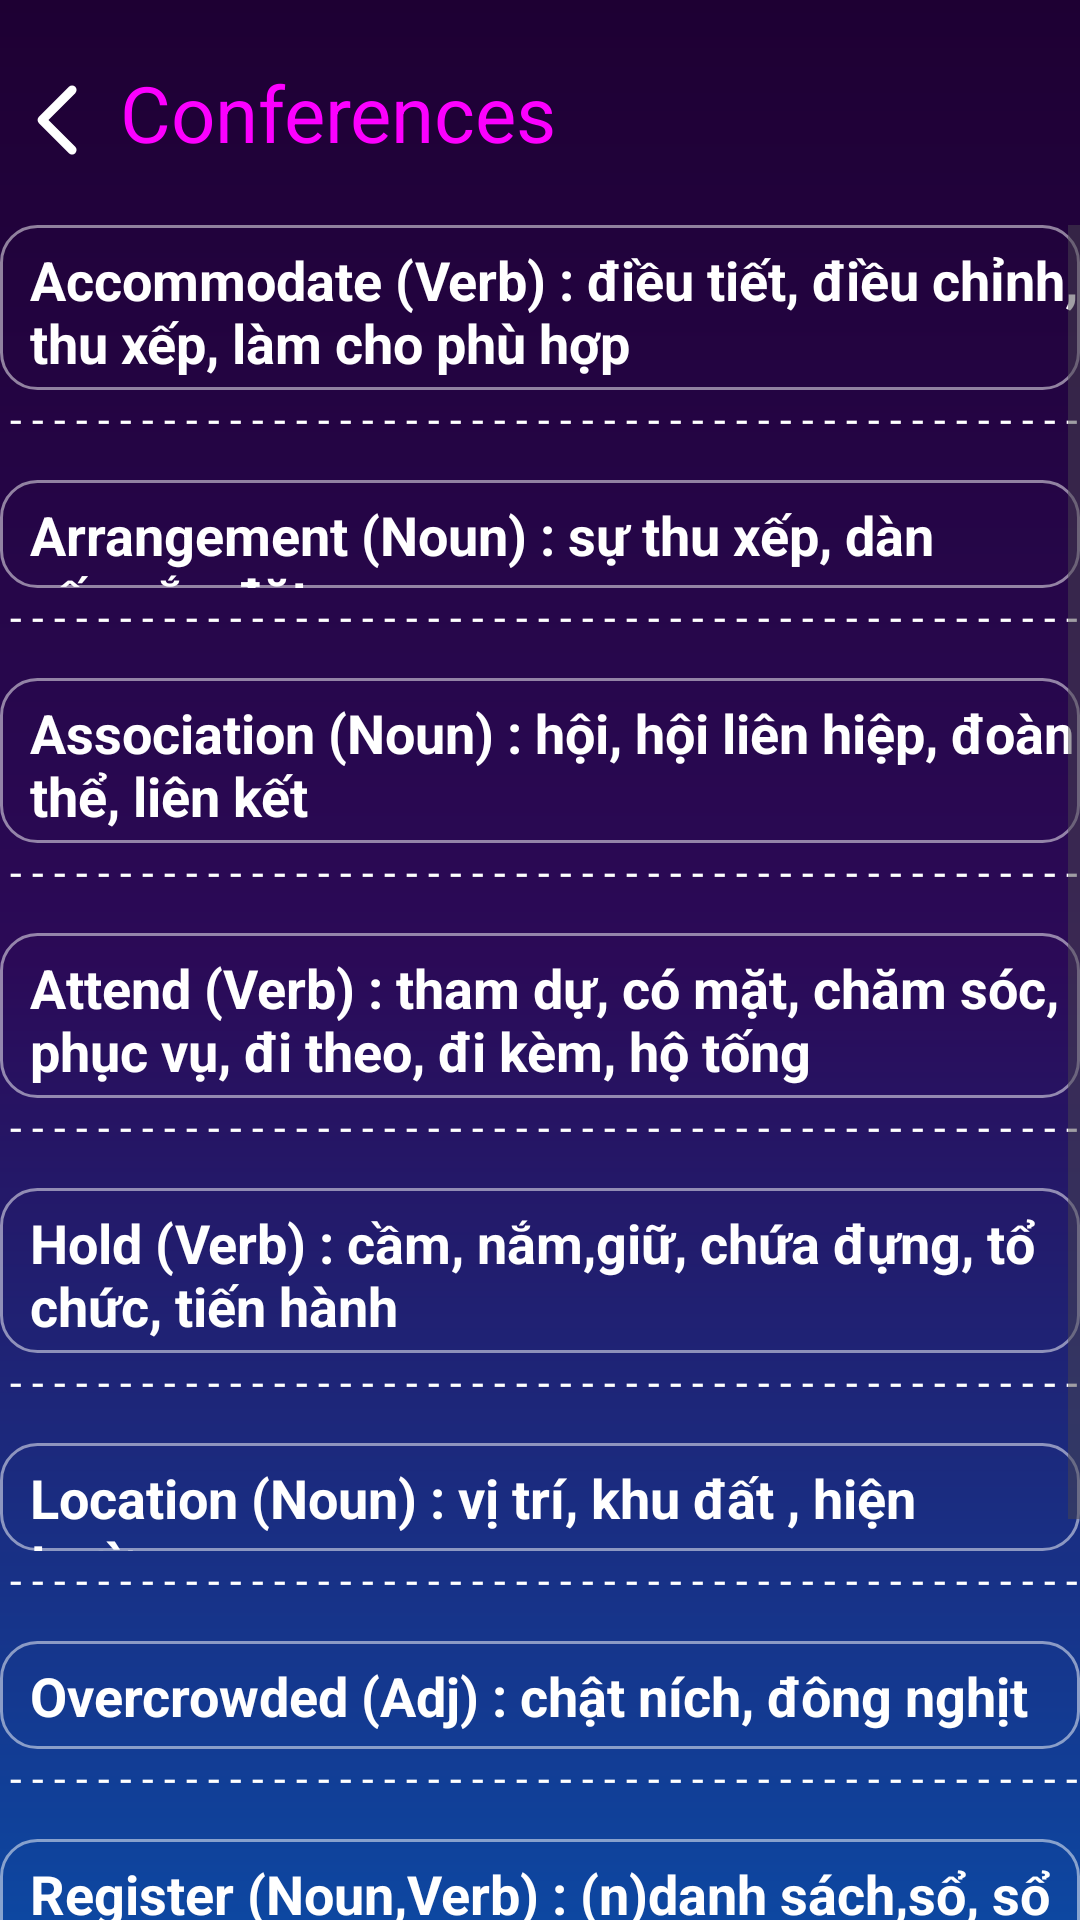

Icon click points for this 1080px x 1920px phone screenshot, format (x=x, y=y):
angle left full: (x=57, y=120)
